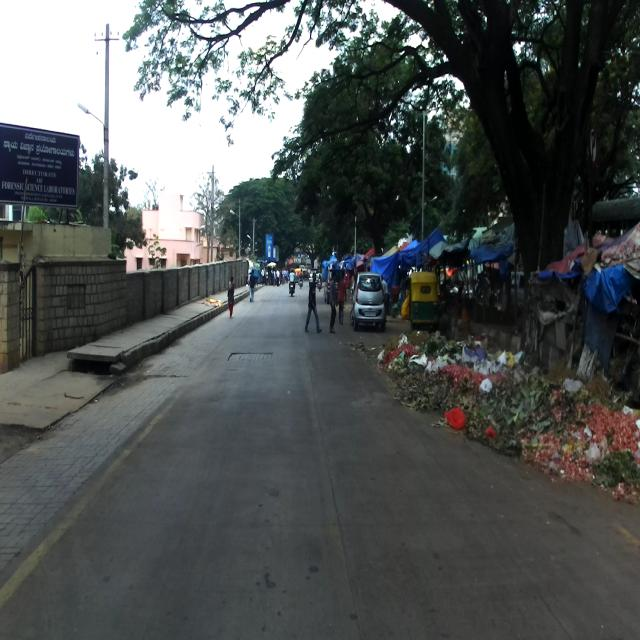car ahead at: (354, 270, 386, 330)
